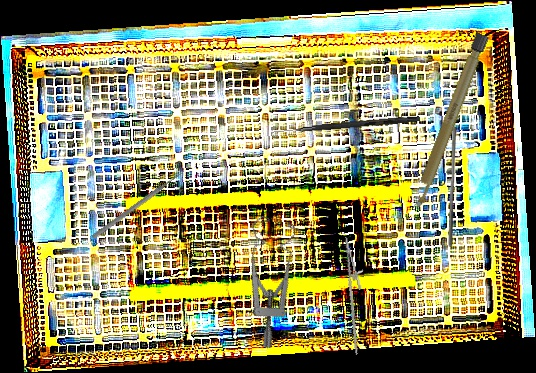Hook Surgical: (271, 114, 420, 137)
Needle Holder: (330, 235, 381, 355)
Pusher: (90, 168, 187, 241), (448, 127, 457, 247)
Scalpel Handle: (409, 32, 490, 210)
Speculum: (205, 208, 326, 351)
